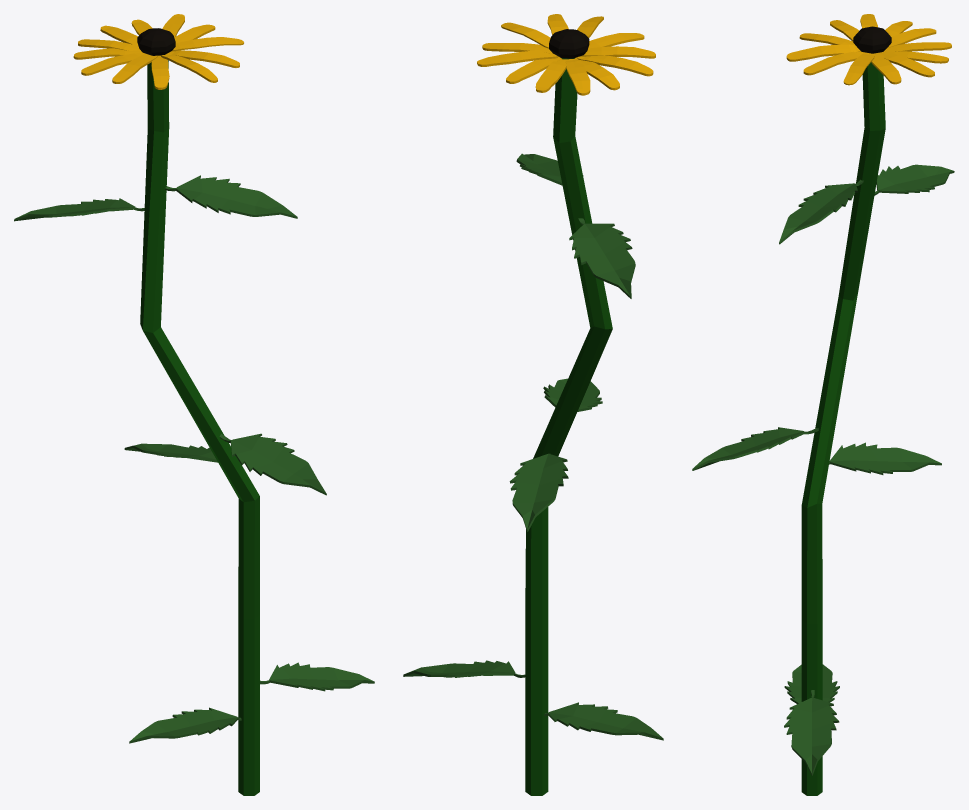
The model's file is Black Eyed Susan CompleteExtruded5NormalFinal.fbx.
3 views of the same model, side by side, from view 1: azimuth 30°, elevation 25°; view 2: azimuth 150°, elevation 25°; view 3: azimuth 270°, elevation 25° (orthographic). The views are drawn at different scales.
Parts seen in each view (by area): view 1: Cylinder, Plane.016, Plane.018, Plane.012, Plane.015, Plane.017, Plane.013, Sphere; view 2: Cylinder, Plane.017, Plane.013, Plane.012, Plane.015, Sphere, Plane.018, Plane.016, Plane.010, Plane.011, Plane.004, Plane.006 (+6 smaller); view 3: Cylinder, Plane.015, Plane.013, Plane.018, Plane.017, Plane.016, Plane.012, Sphere, Plane.003, Plane.001, Plane.010, Plane.007 (+3 smaller).
Part boxes in pixels (x1,y1,x2,y2): Cylinder: (140, 60, 259, 795); Plane.016: (219, 433, 326, 495); Plane.018: (164, 175, 297, 218); Plane.012: (129, 707, 241, 743); Plane.015: (269, 662, 374, 691); Plane.017: (14, 198, 144, 221); Plane.013: (124, 443, 217, 462); Sphere: (137, 28, 175, 55); Cylinder: (525, 58, 612, 795); Plane.017: (569, 218, 635, 298); Plane.013: (509, 453, 568, 531); Plane.012: (544, 702, 663, 740); Plane.015: (403, 660, 515, 677); Sphere: (549, 29, 589, 58); Plane.018: (516, 153, 583, 185); Plane.016: (543, 378, 602, 411); Plane.010: (477, 50, 558, 66); Plane.011: (577, 55, 653, 76); Plane.004: (576, 46, 655, 58); Plane.006: (565, 59, 590, 95); Cylinder: (801, 62, 885, 795); Plane.015: (784, 697, 839, 775); Plane.013: (829, 442, 941, 474); Plane.018: (779, 179, 863, 244); Plane.017: (874, 164, 954, 195); Plane.016: (692, 427, 818, 470); Plane.012: (784, 664, 839, 703); Sphere: (853, 26, 891, 53); Plane.003: (786, 44, 860, 61); Plane.001: (803, 51, 864, 75); Plane.010: (879, 51, 934, 77); Plane.007: (884, 42, 951, 51).
Size of the model in its own units: 340 by 851 by 276.
